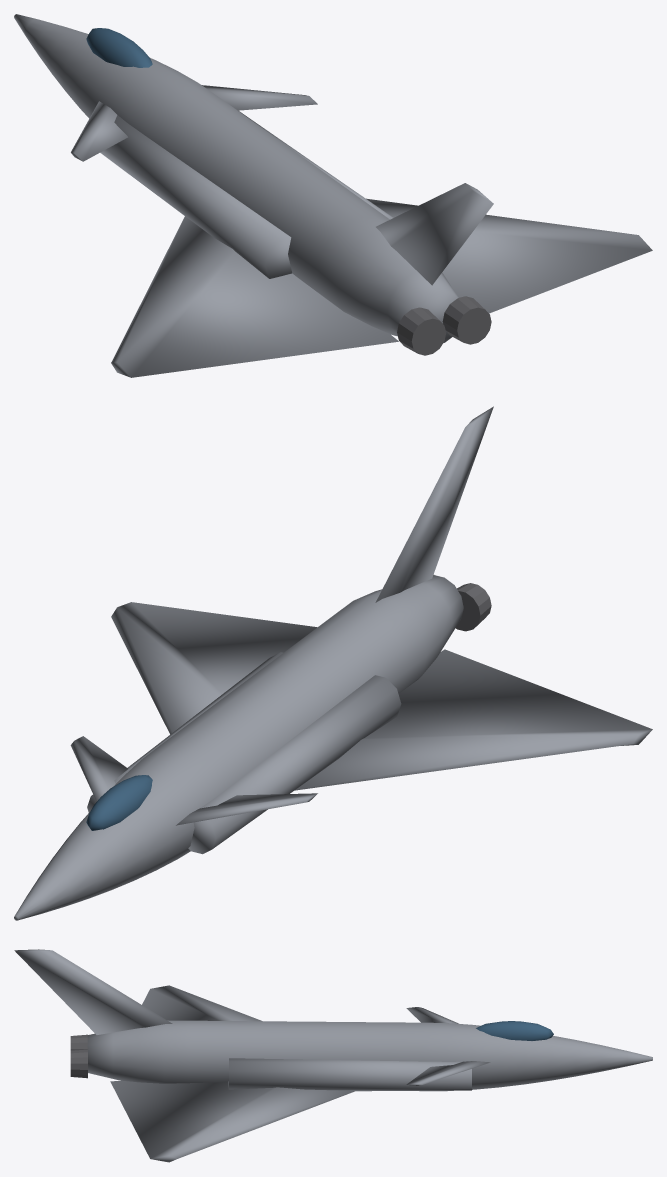
File: rafale.fbx
3 views of the same model, one above another, from view 1: azimuth 30°, elevation 25°; view 2: azimuth 150°, elevation 25°; view 3: azimuth 270°, elevation 25° (orthographic). The views are drawn at different scales.
Parts seen in each view (by area): view 1: Body, Detail, Canopy; view 2: Body, Canopy, Detail; view 3: Body, Canopy, Detail.
Boxes of the visible parts, left/top/right/bottom form: Body: left=14, top=14, right=652, bottom=377; Detail: left=397, top=296, right=491, bottom=355; Canopy: left=86, top=28, right=152, bottom=67; Body: left=14, top=406, right=652, bottom=920; Canopy: left=86, top=775, right=152, bottom=830; Detail: left=433, top=574, right=491, bottom=631; Body: left=14, top=949, right=652, bottom=1162; Canopy: left=476, top=1021, right=553, bottom=1040; Detail: left=70, top=1034, right=87, bottom=1078.
Size of the model in its own units: 1090 by 411 by 1729.
